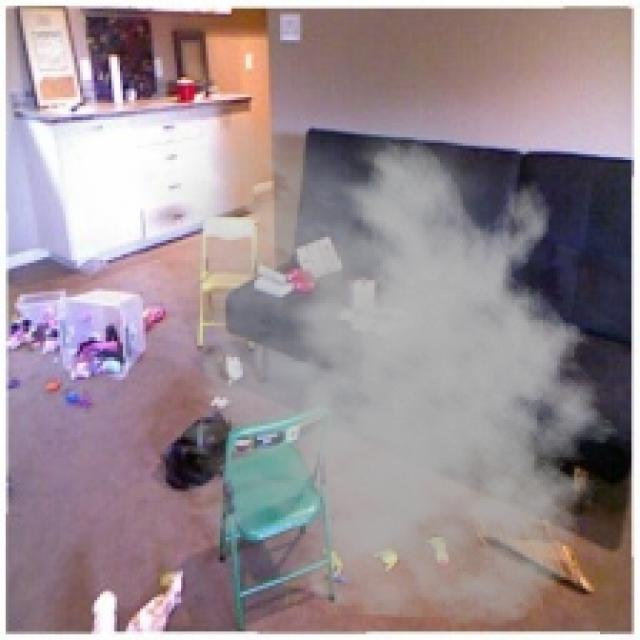Smoke: (120, 91, 634, 628)
